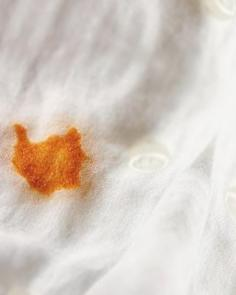stain: (7, 116, 96, 203)
